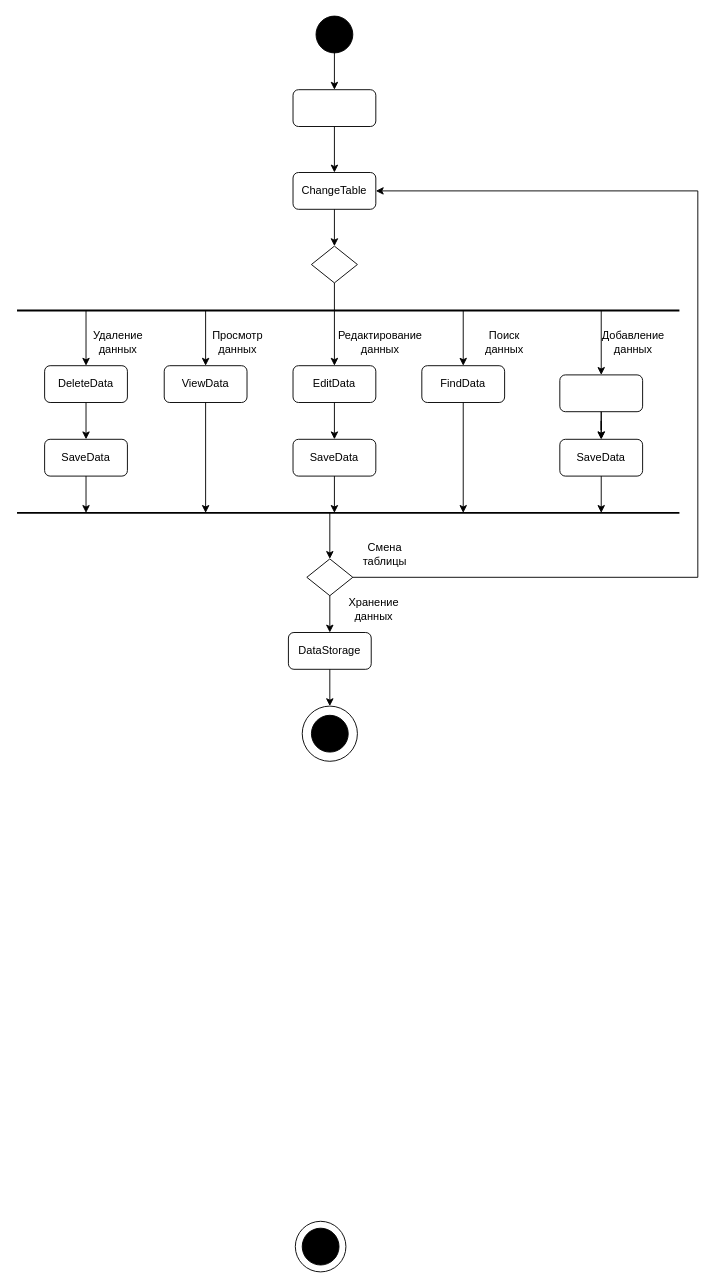
Some shapes in this 721 by 1288 pixel diagram are drawn without their labels. Each missing label, with the centre of its shape:
AddData: pixel 601 393
Autorization: pixel 334 107
